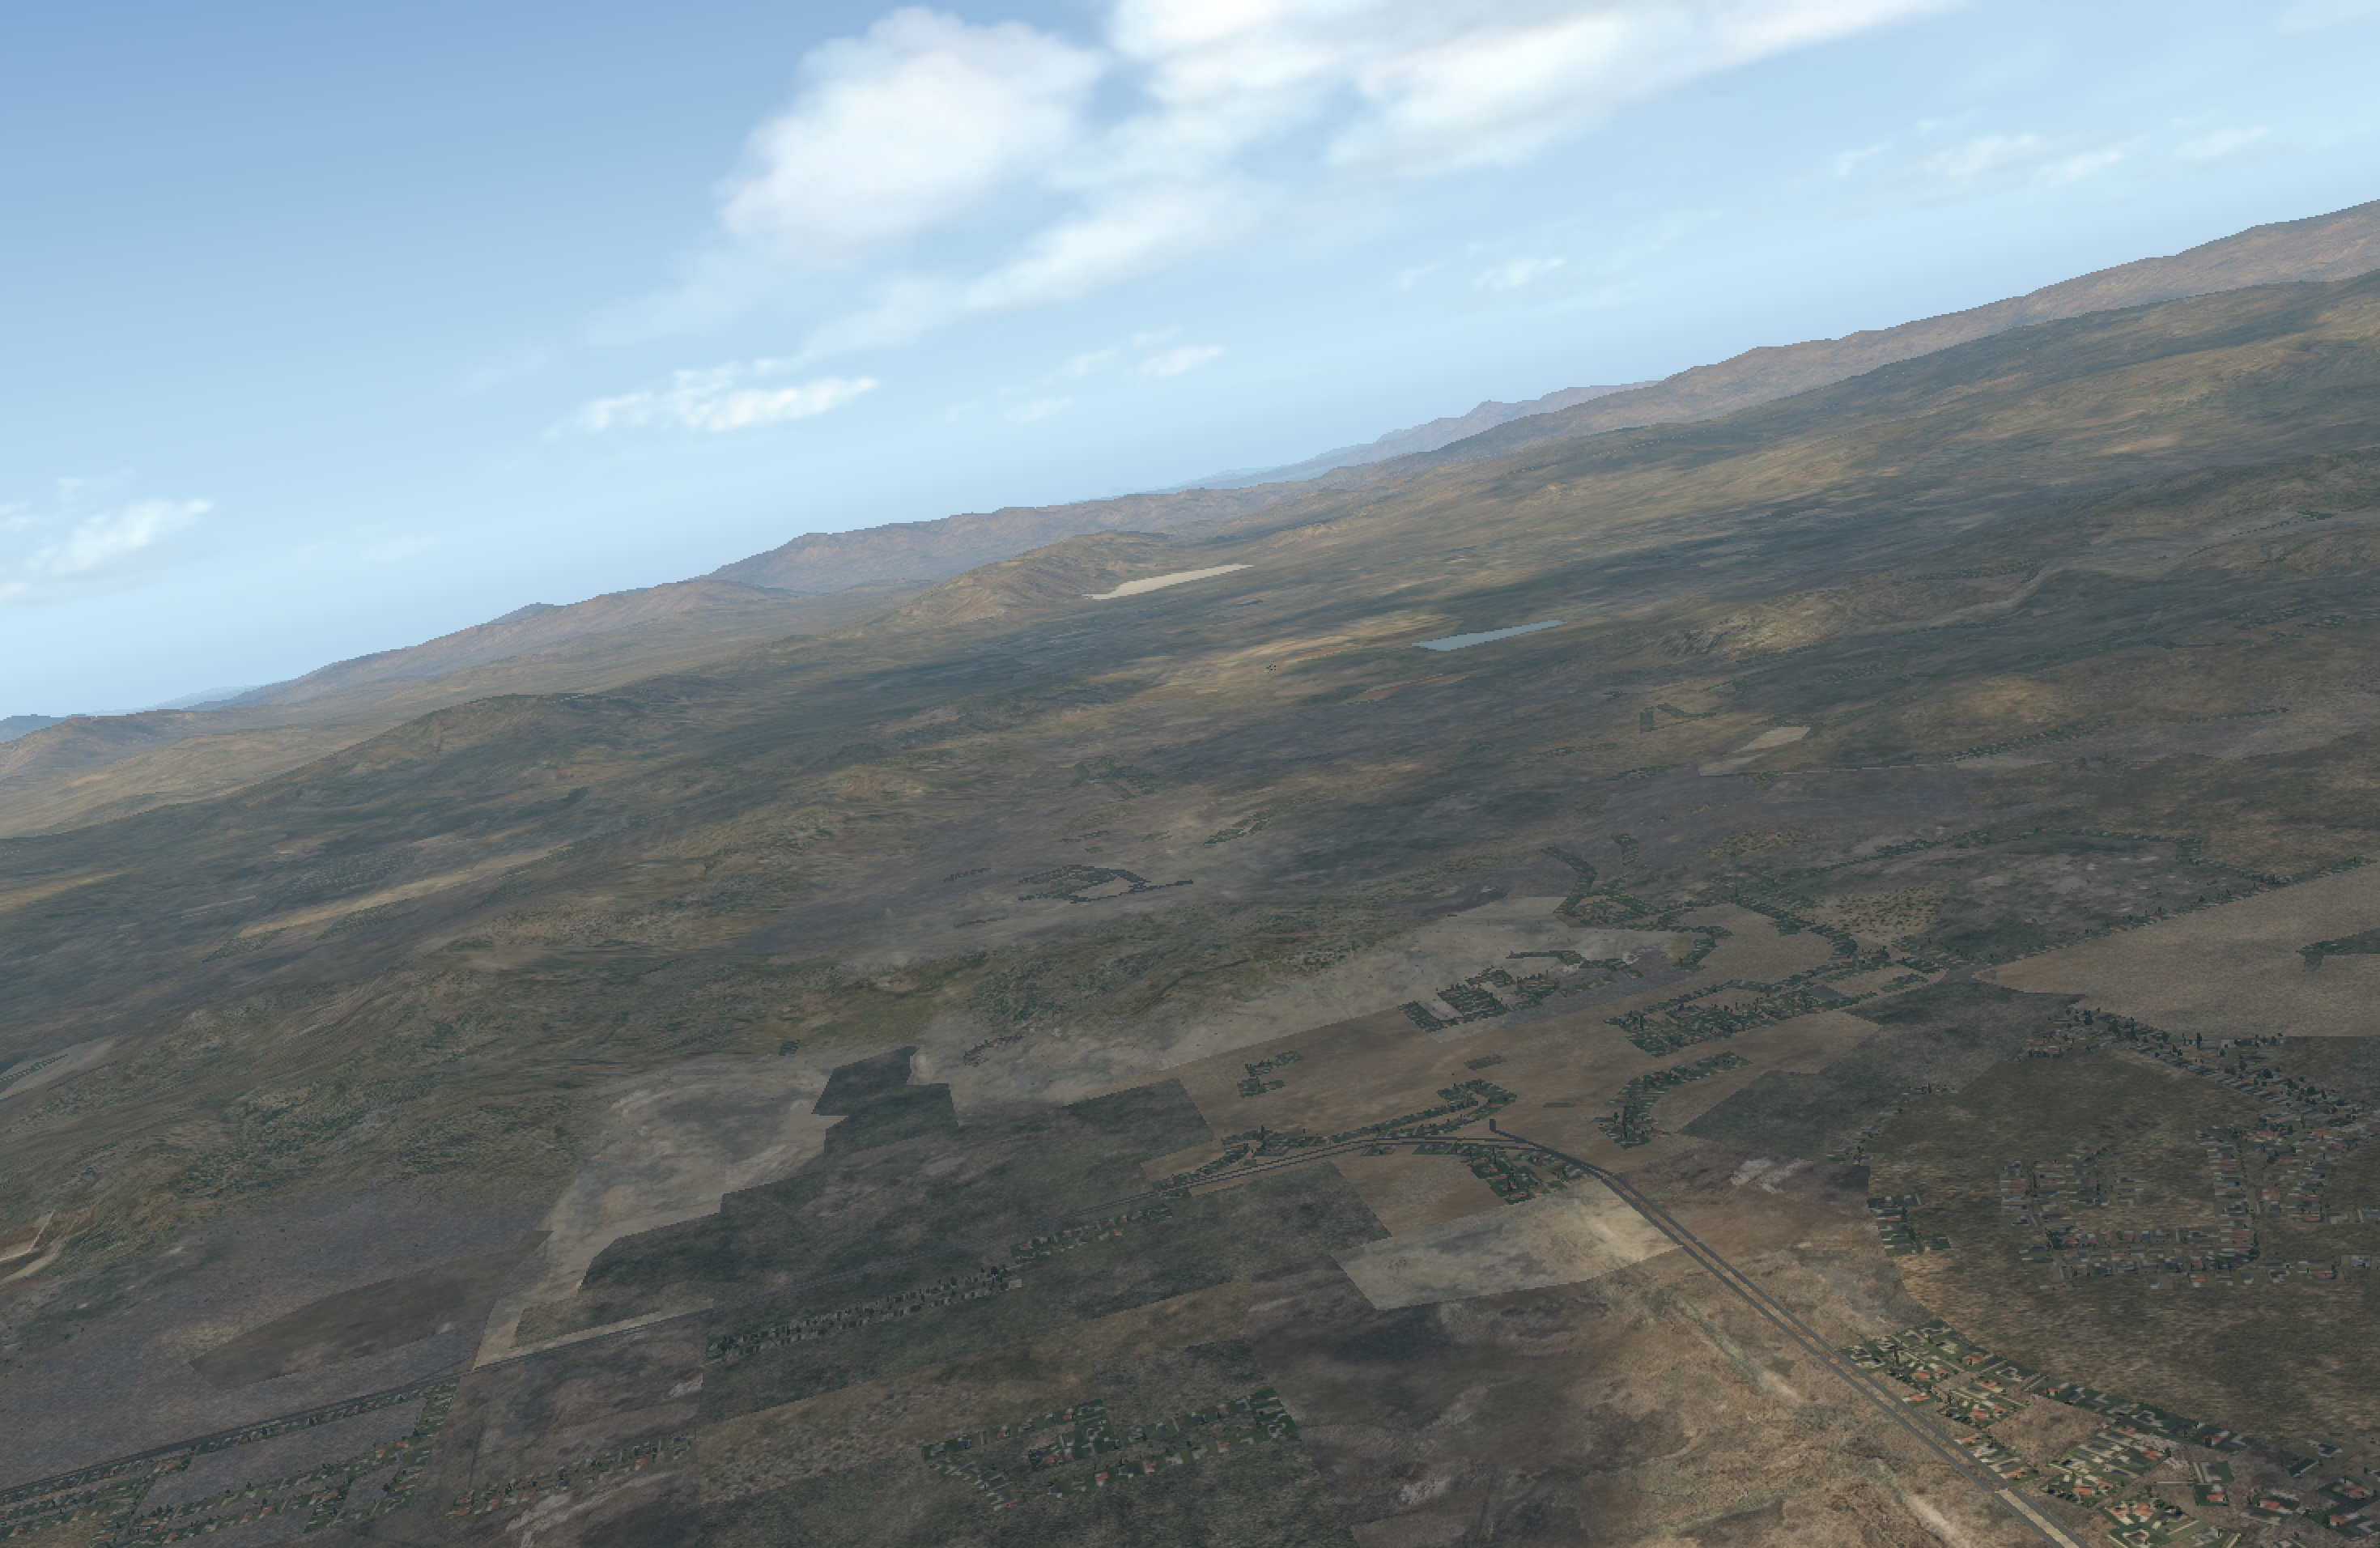aircraft: (1259, 665, 1280, 672)
